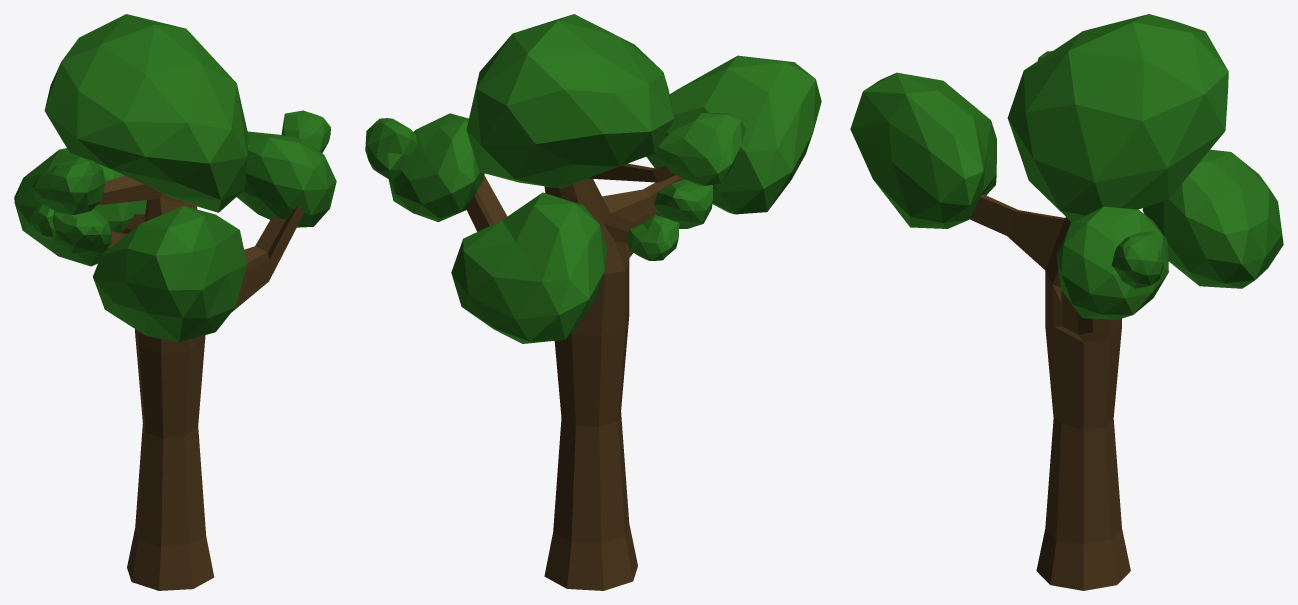
File: leaf_tree_01.fbx
3 renders of one model, left to right at view 1: azimuth 30°, elevation 25°; view 2: azimuth 150°, elevation 25°; view 3: azimuth 270°, elevation 25°, orthographic. The views are drawn at different scales.
Visible parts, largest first — view 1: Cylinder; view 2: Cylinder; view 3: Cylinder.
Boxes of the visible parts, left/top/right/bottom form: Cylinder: left=14, top=14, right=336, bottom=590; Cylinder: left=365, top=14, right=821, bottom=590; Cylinder: left=850, top=14, right=1283, bottom=590.
Size of the model in its own units: 520 by 827 by 588.
